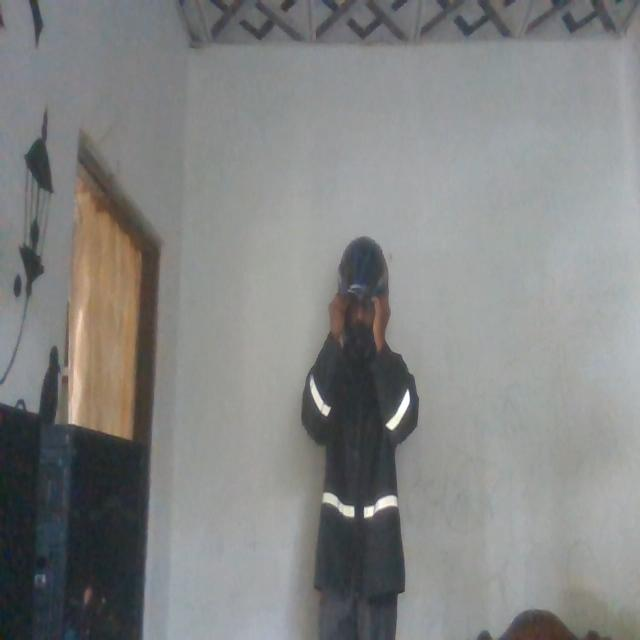Helmet_Wearer: (327, 238, 391, 367)
Jacket_Wearer: (303, 326, 419, 598)
Person: (298, 239, 418, 640)
